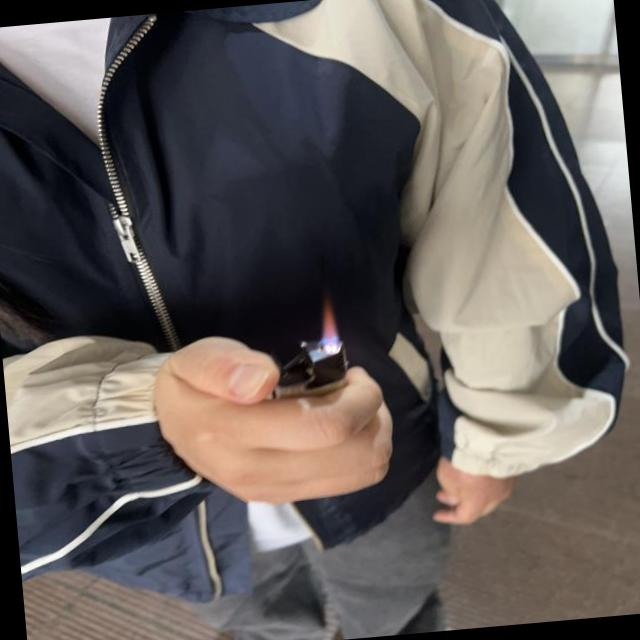Fire: (318, 306, 339, 344)
